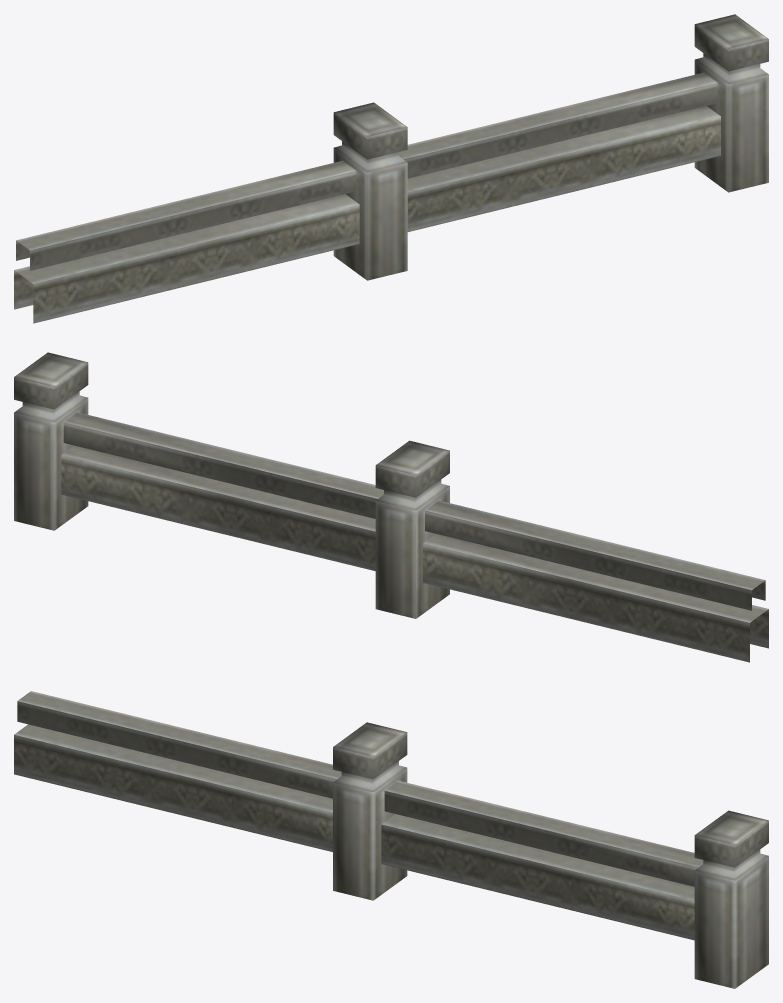
Rendered from S2_Build_XSC034.FBX.
3 renders of one model, top to bottom at view 1: azimuth 30°, elevation 25°; view 2: azimuth 150°, elevation 25°; view 3: azimuth 330°, elevation 25°, orthographic.
Visible parts, largest first — view 1: S2_Build_XSC034; view 2: S2_Build_XSC034; view 3: S2_Build_XSC034.
Part boxes in pixels (left/top/right/bottom): S2_Build_XSC034: left=14, top=14, right=768, bottom=323; S2_Build_XSC034: left=14, top=352, right=768, bottom=662; S2_Build_XSC034: left=14, top=691, right=768, bottom=988.
Bounding box in the file's own units: 1712 × 323 × 138.
